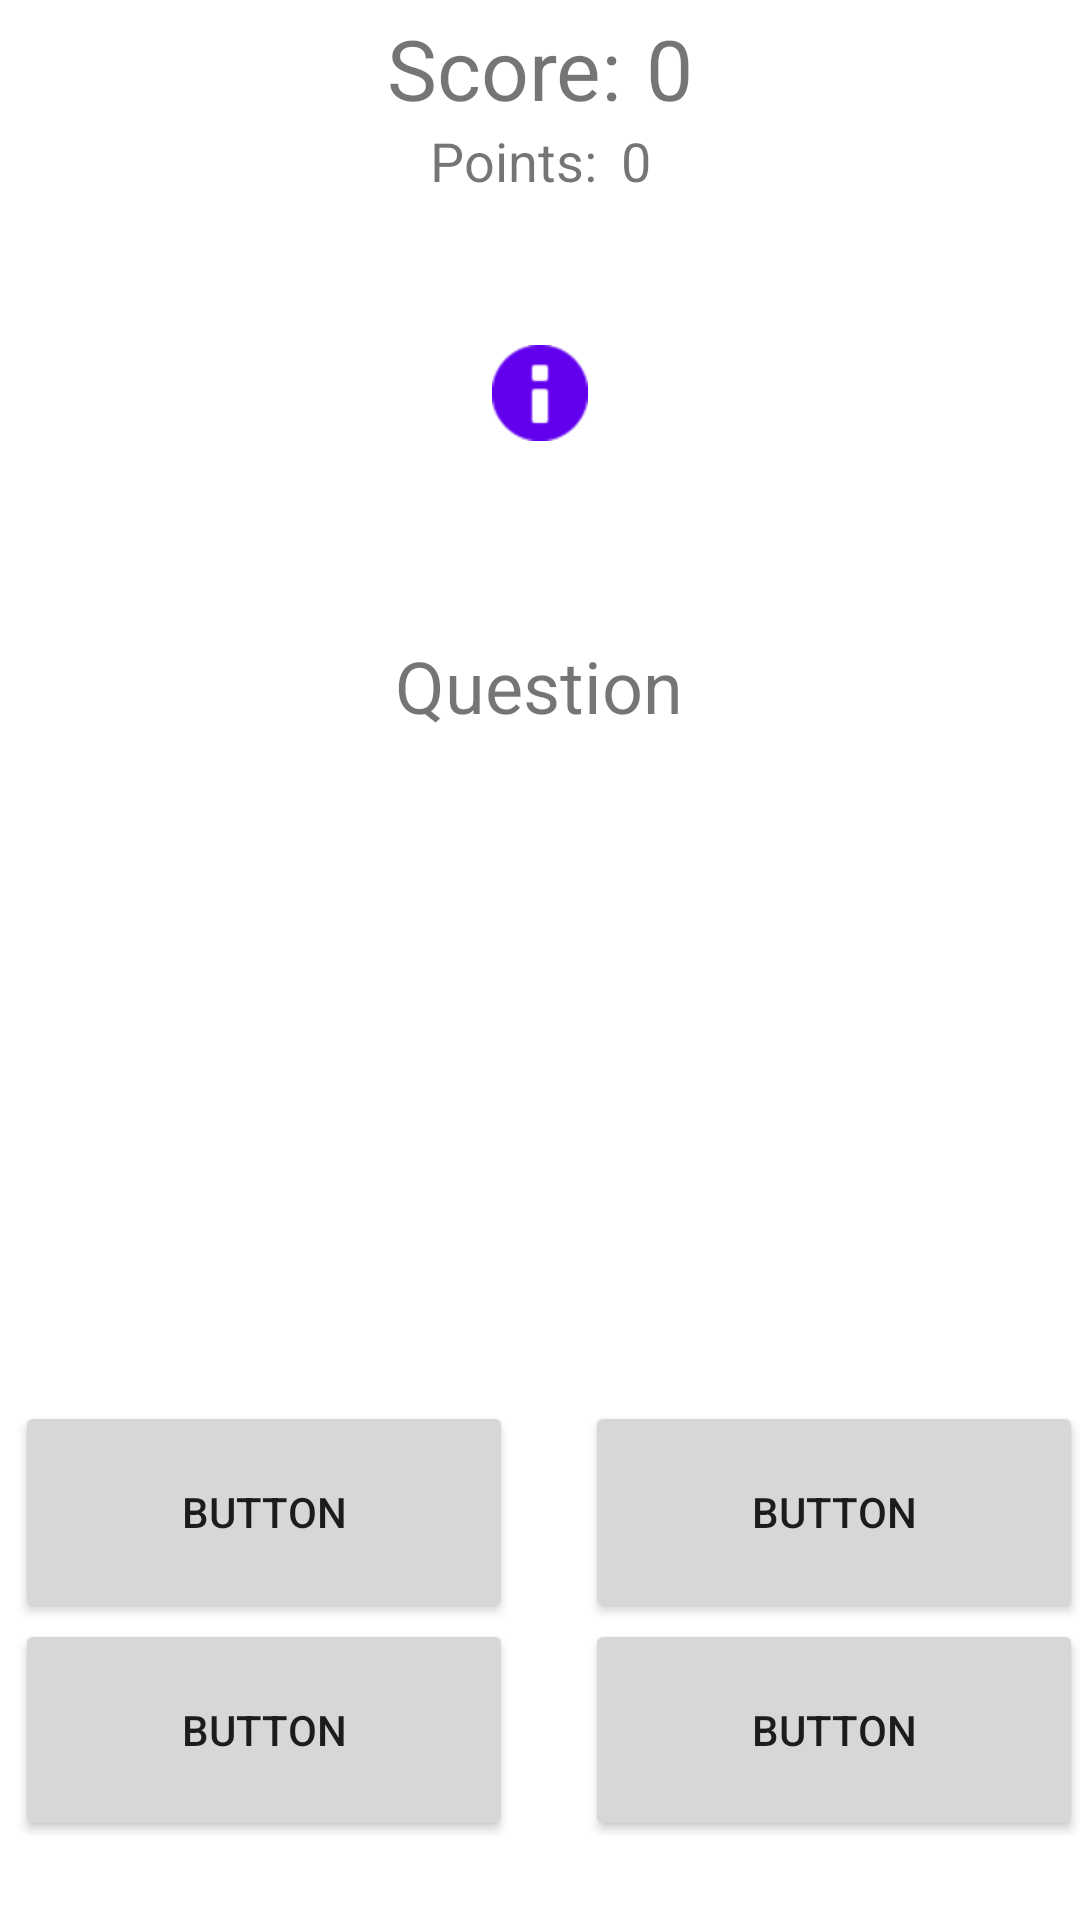

Icons on this 1080*1920 Android screen, each with its box as (x1, y1, x2, y2):
info: (492, 345, 588, 441)
